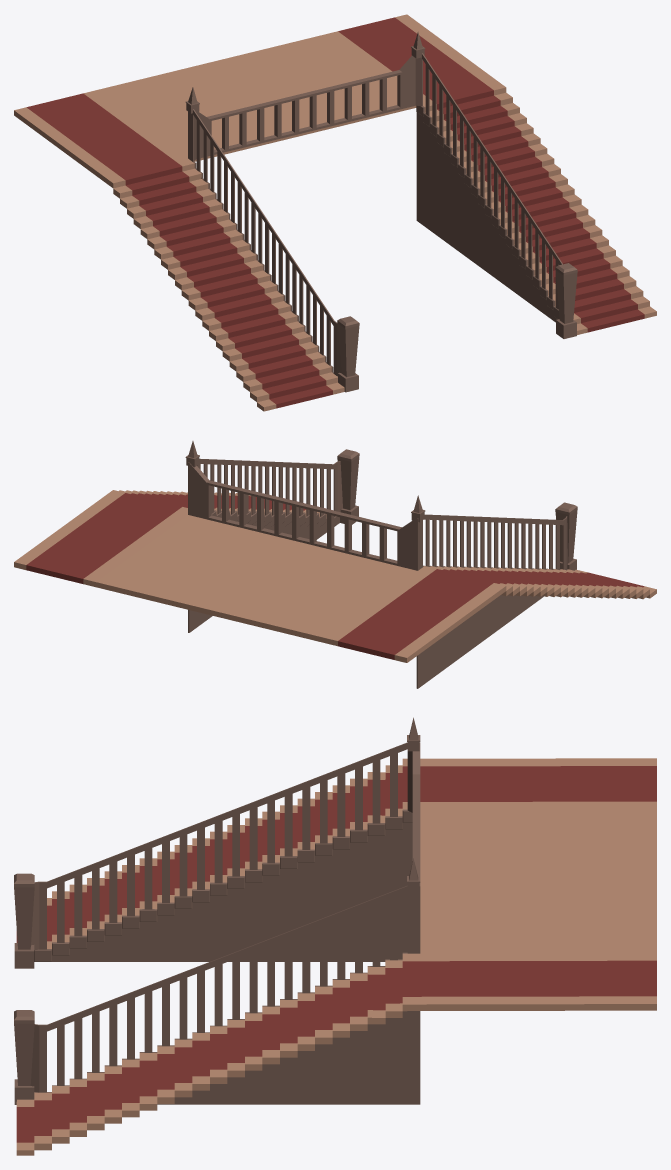
Rendered from Enterance.glb.
3 views of the same model, one above another, from view 1: azimuth 30°, elevation 25°; view 2: azimuth 150°, elevation 25°; view 3: azimuth 270°, elevation 25° (orthographic). The views are drawn at different scales.
Parts seen in each view (by area): view 1: Stairs; view 2: Stairs; view 3: Stairs.
Boxes of the visible parts, bbox=[...] form: Stairs: bbox=[14, 14, 656, 411]; Stairs: bbox=[14, 441, 656, 688]; Stairs: bbox=[14, 717, 656, 1155].
Bounding box in the file's own units: 15.82 × 7.36 × 17.5.
1 material, 1 textured.
